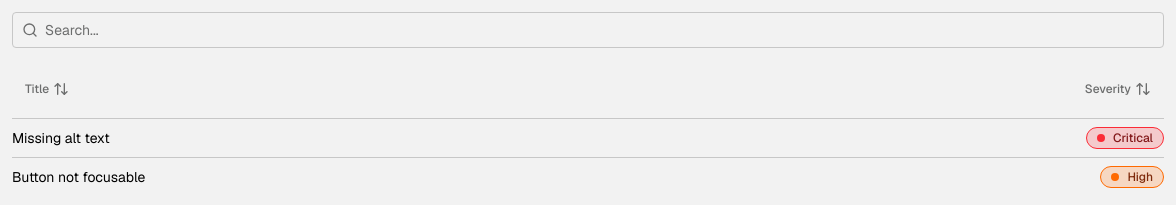
it: ReportIssuesPanel › shows no-results message when search has no matches
Type "zzznomatch" into the field with placeholder "Search..." at (588, 30), box 12,12 -> 1164,48
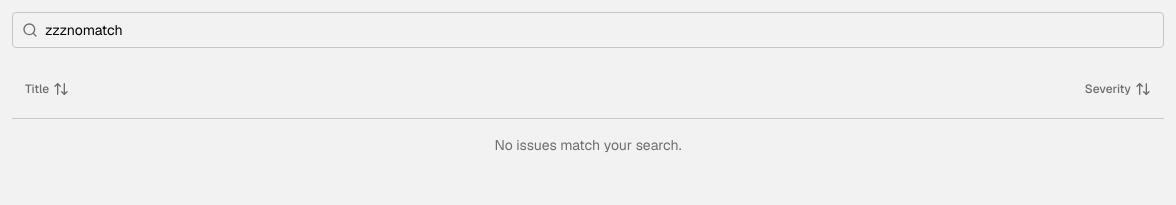
Now the text "No issues match your search." is shown, box 12,118 -> 1164,171
